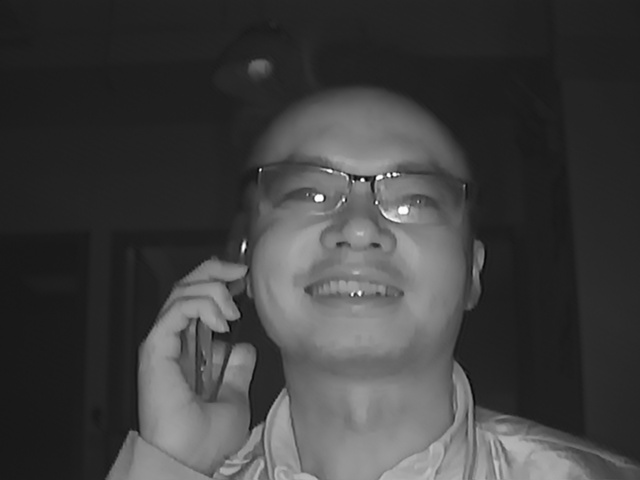hand: (130, 252, 264, 453)
